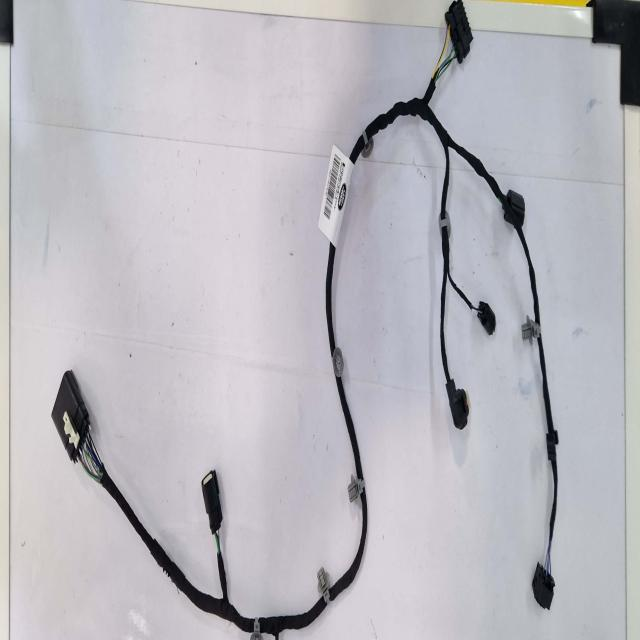Clip: (521, 312, 540, 341), (316, 563, 329, 600), (348, 470, 364, 499), (545, 427, 558, 459), (332, 343, 344, 375), (440, 208, 452, 237), (364, 130, 376, 156), (249, 615, 261, 640)
Connector: (51, 366, 89, 459), (448, 0, 475, 61), (201, 468, 221, 531), (446, 375, 469, 424), (529, 557, 551, 603), (502, 188, 526, 228), (478, 297, 496, 332)
Gape: (432, 25, 462, 78), (434, 23, 459, 81), (81, 436, 106, 487), (543, 535, 554, 570), (472, 294, 484, 317), (214, 526, 223, 551)
Info: (320, 144, 356, 245)
MHEV_N11_Cable: (51, 237, 366, 638), (326, 72, 556, 603), (450, 0, 474, 61)
